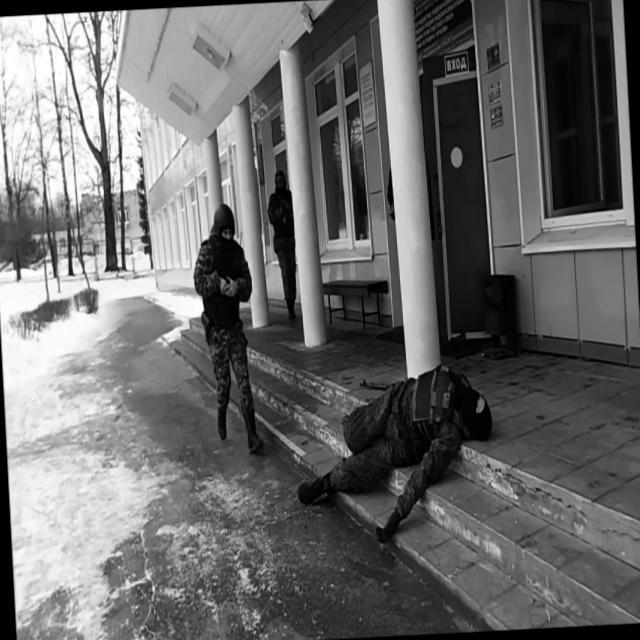gun: (358, 374, 395, 394)
person: (190, 200, 266, 458), (265, 168, 300, 322)
person with a gun: (291, 362, 498, 550)
